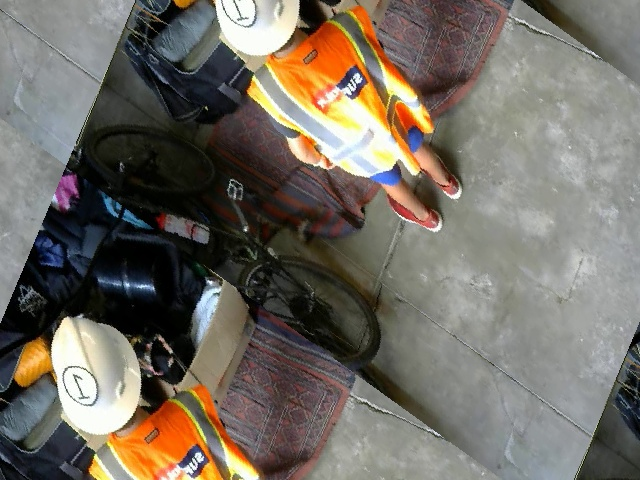one: (215, 0, 261, 31)
